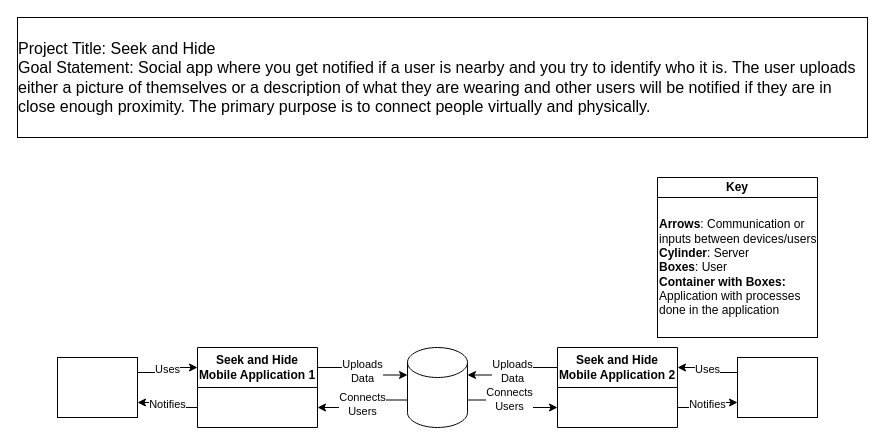
This 885x445 diagram has some shape labels left out. The centre of each missing label's shape, as x and y in pixels:
Server: (437,387)
User 1: (97,387)
User 2: (777,387)
